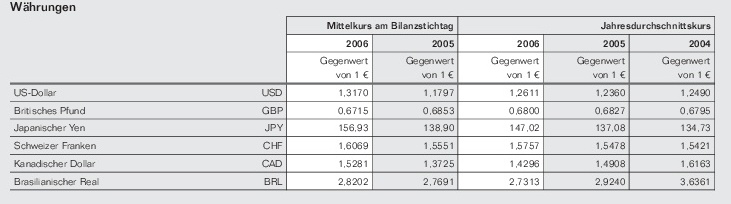table: (0, 0, 731, 204)
